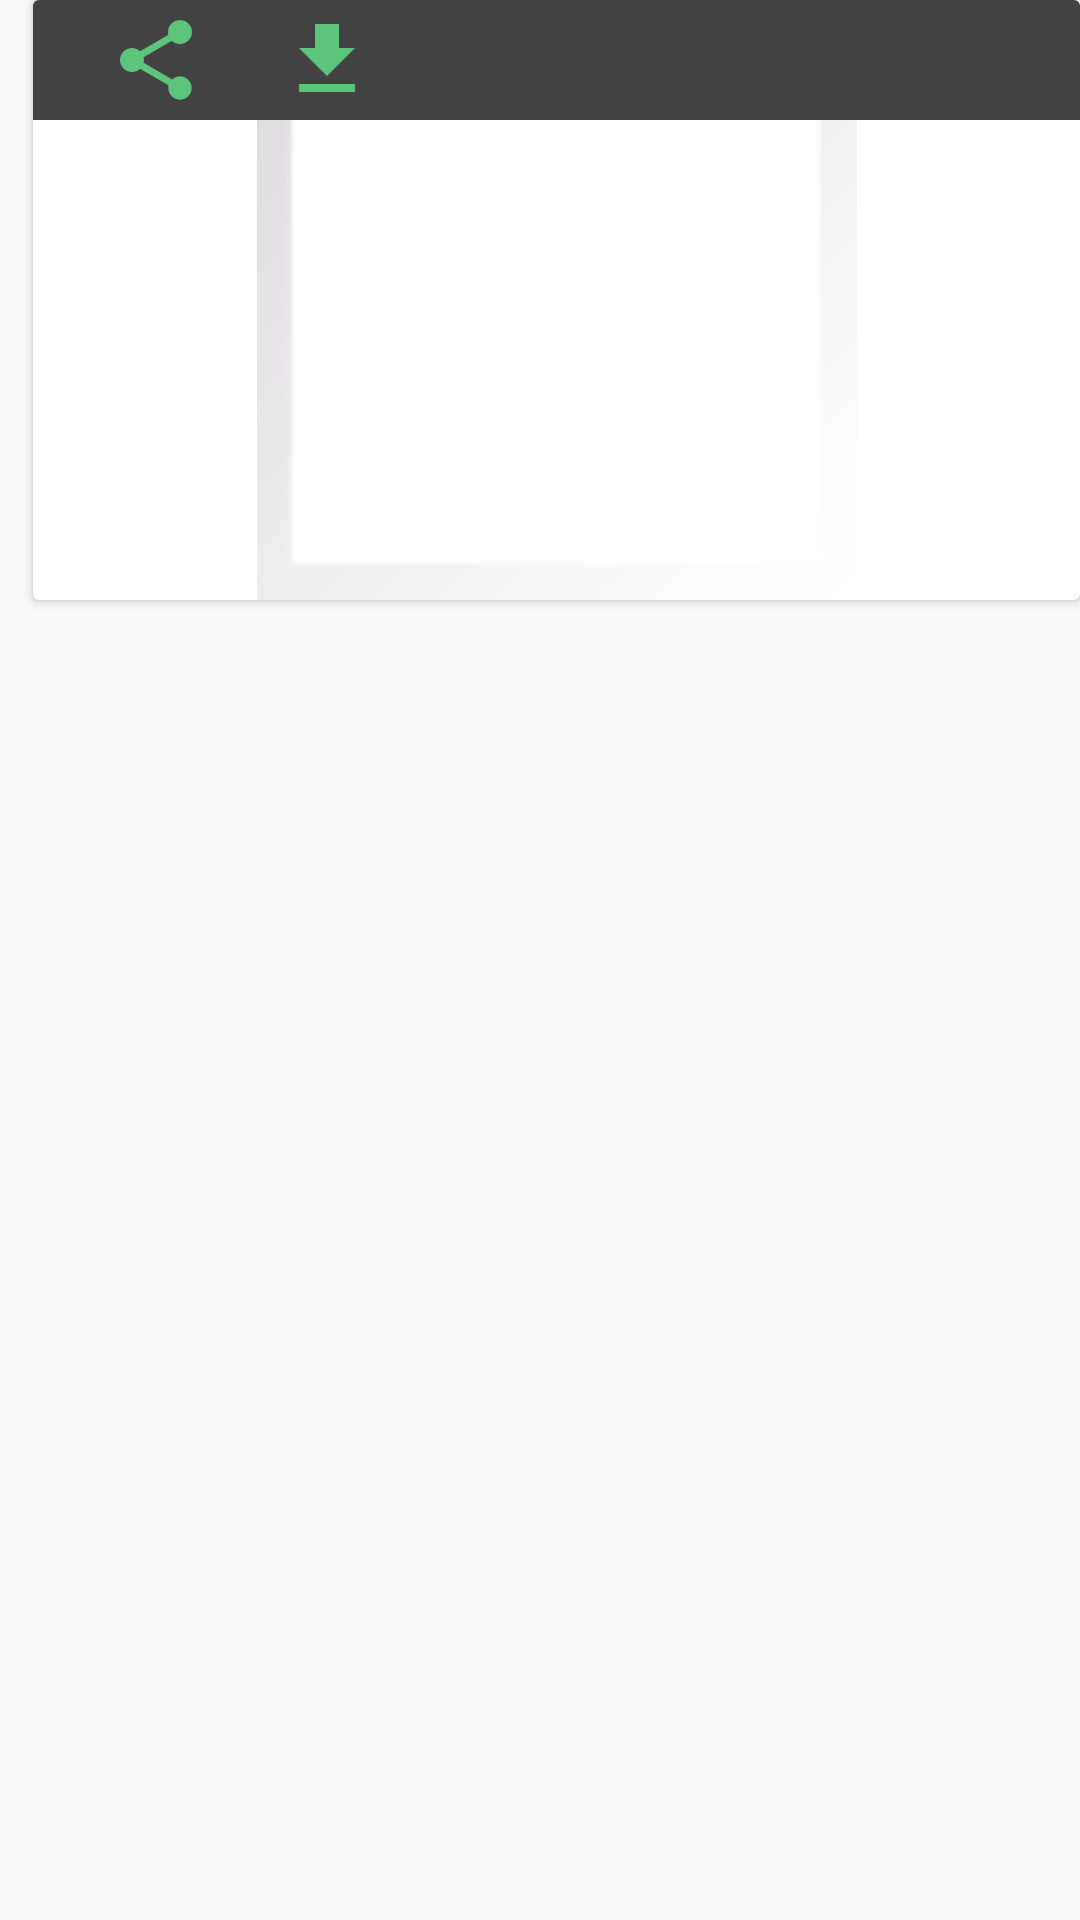

Icon click points for this 1080px×1920px phone screenshot, format [x,y]:
download: [327,58]
share: [156,60]
